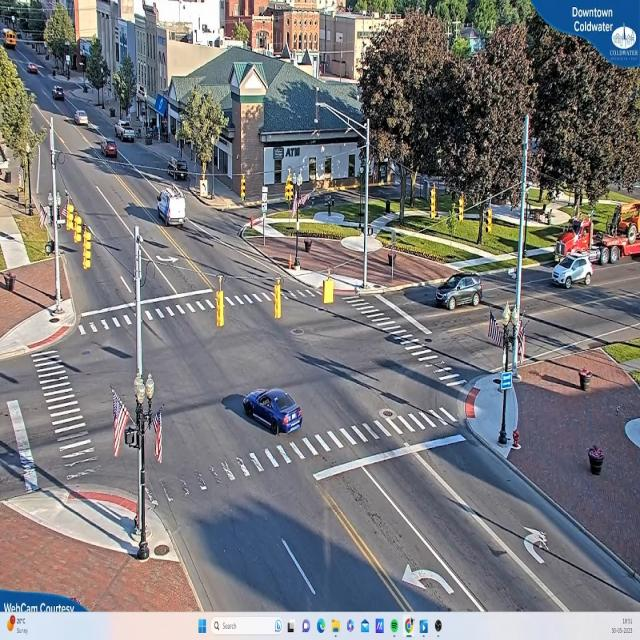car: (244, 389, 304, 437), (436, 275, 483, 309), (553, 254, 594, 290), (157, 184, 187, 228)
